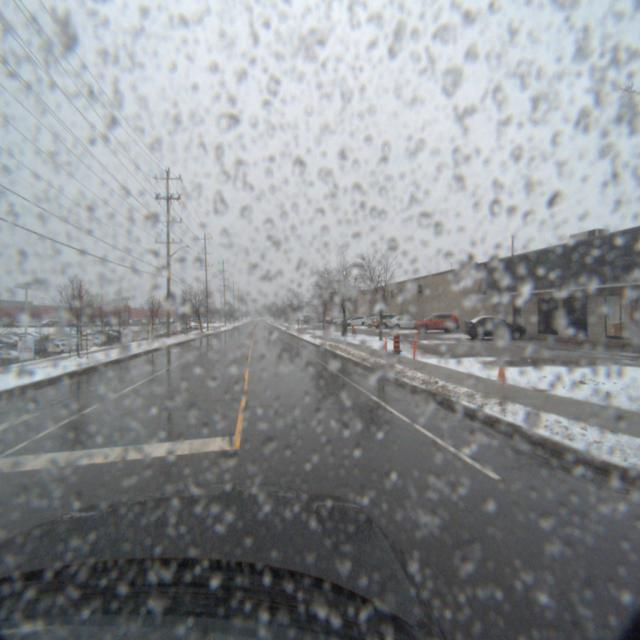Car: (456, 314, 526, 342), (406, 312, 458, 336), (381, 316, 421, 332)
